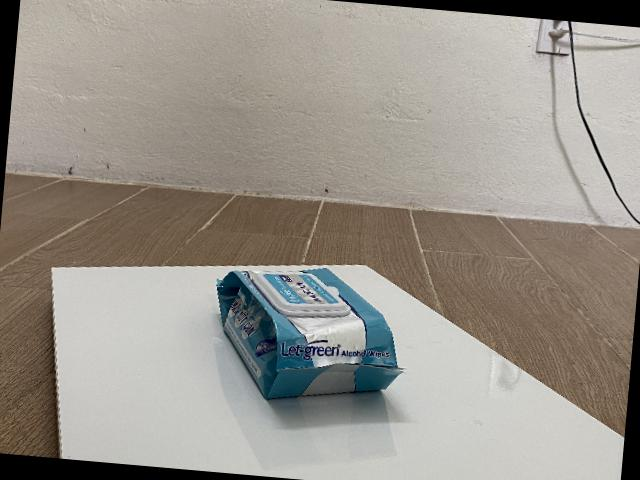Let-green_alcohol_wipes: (214, 266, 406, 400)
